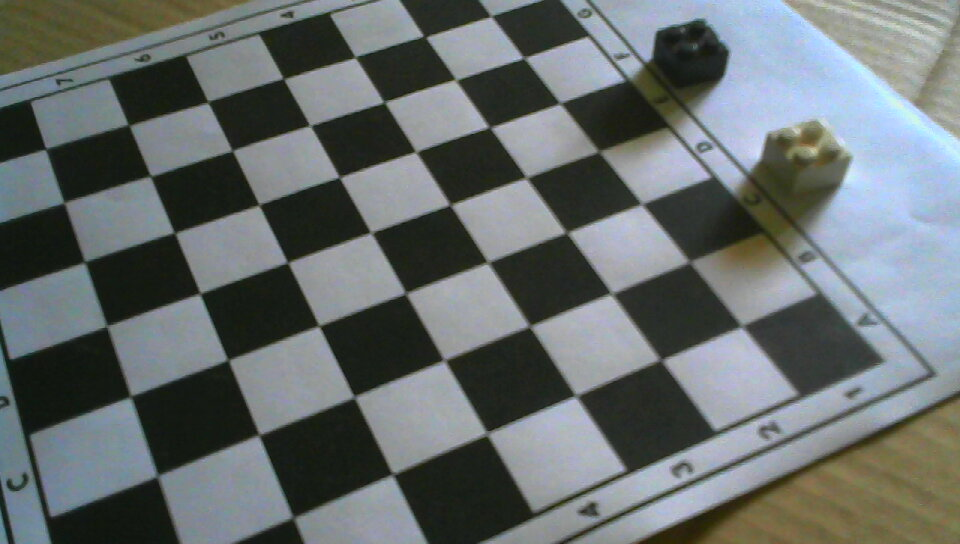bp: (654, 17, 731, 90)
wp: (763, 118, 853, 197)
